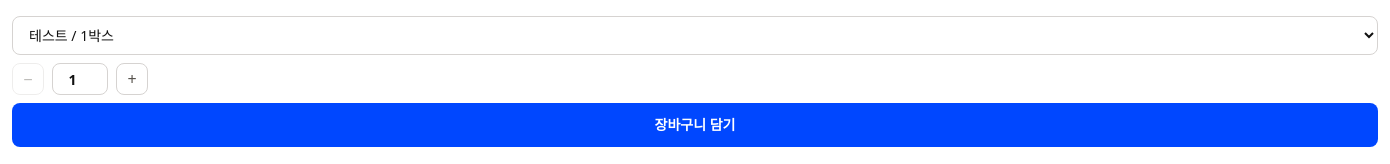
Test: AddToCartButton › + 버튼 클릭 시 수량이 증가한다
This screenshot has width=1390, height=164.
What coordinates should you click on to do the following:
click the button named "수량 증가"
I would click on:
 (132, 79)
Its box is [116, 63, 148, 95].
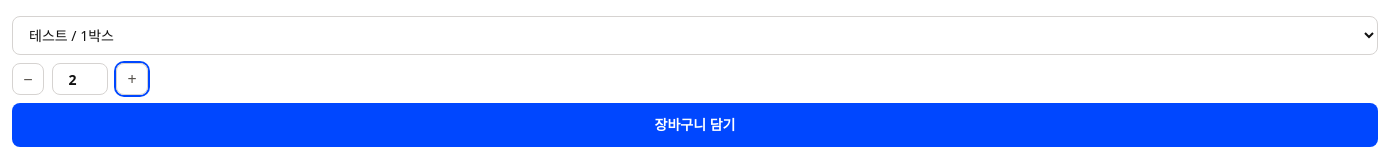
Now the number field holds "2", box [52, 63, 108, 95]
